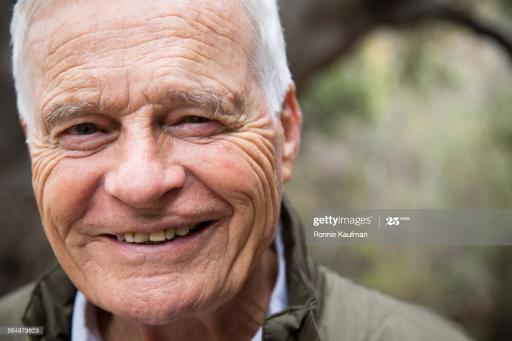left_eye: (168, 114, 225, 131)
left_lip_corner: (207, 213, 231, 231)
right_eye: (57, 121, 112, 139)
right_lip_corner: (85, 229, 120, 244)
